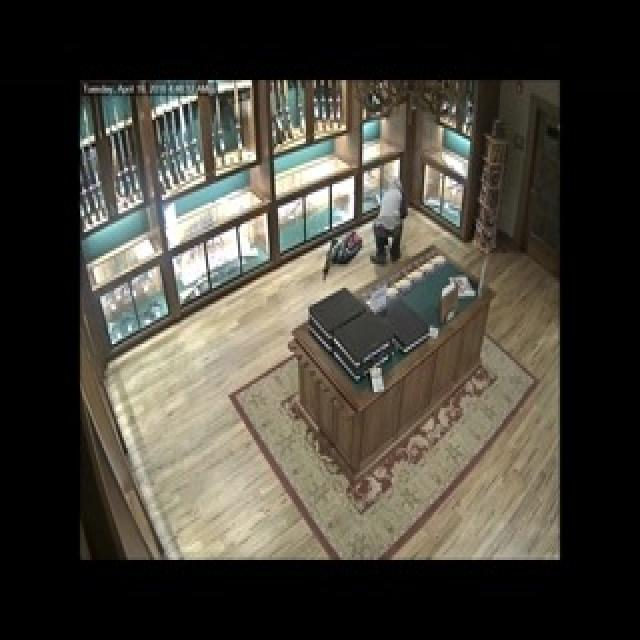thief: (360, 168, 406, 270)
